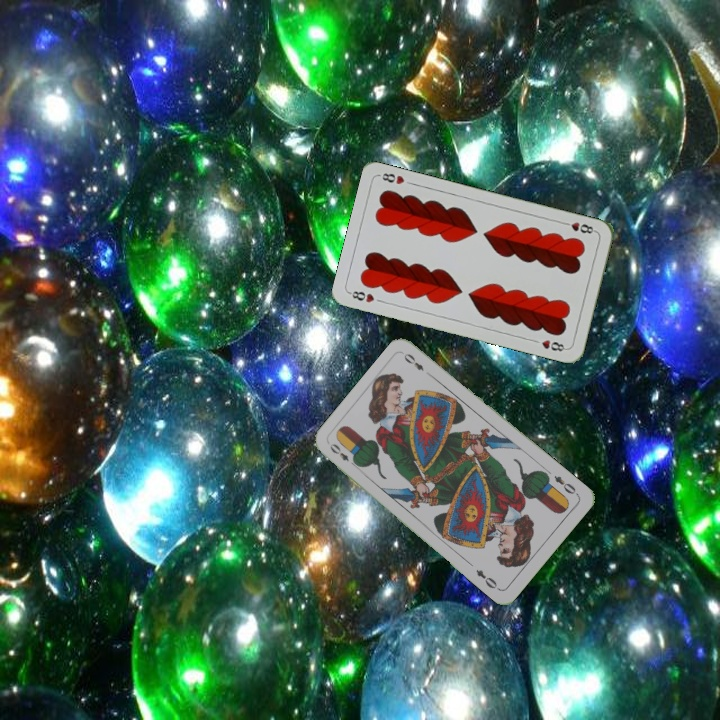EO: (325, 439, 360, 470), (550, 471, 581, 498)
H8: (558, 218, 598, 236), (346, 287, 377, 305)
